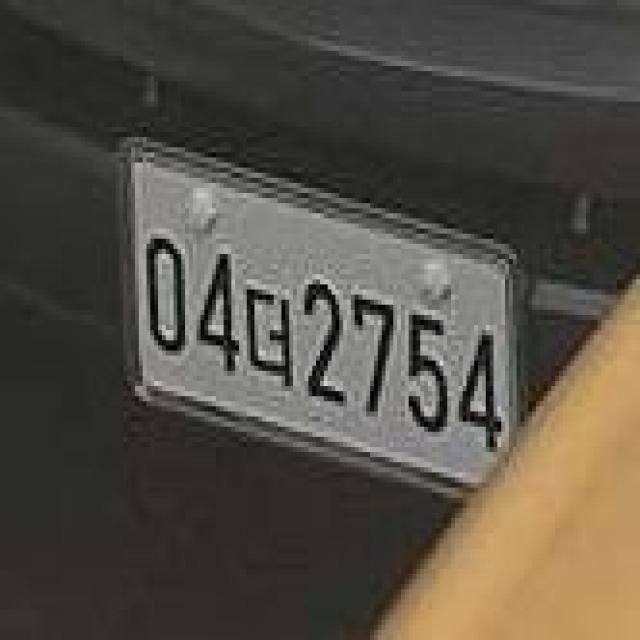illegal_plate: (117, 130, 530, 524)
